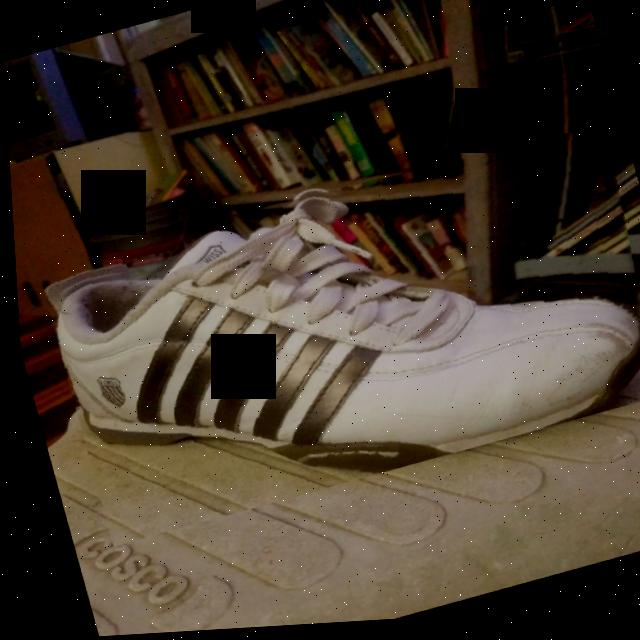shoe: (27, 111, 640, 549)
